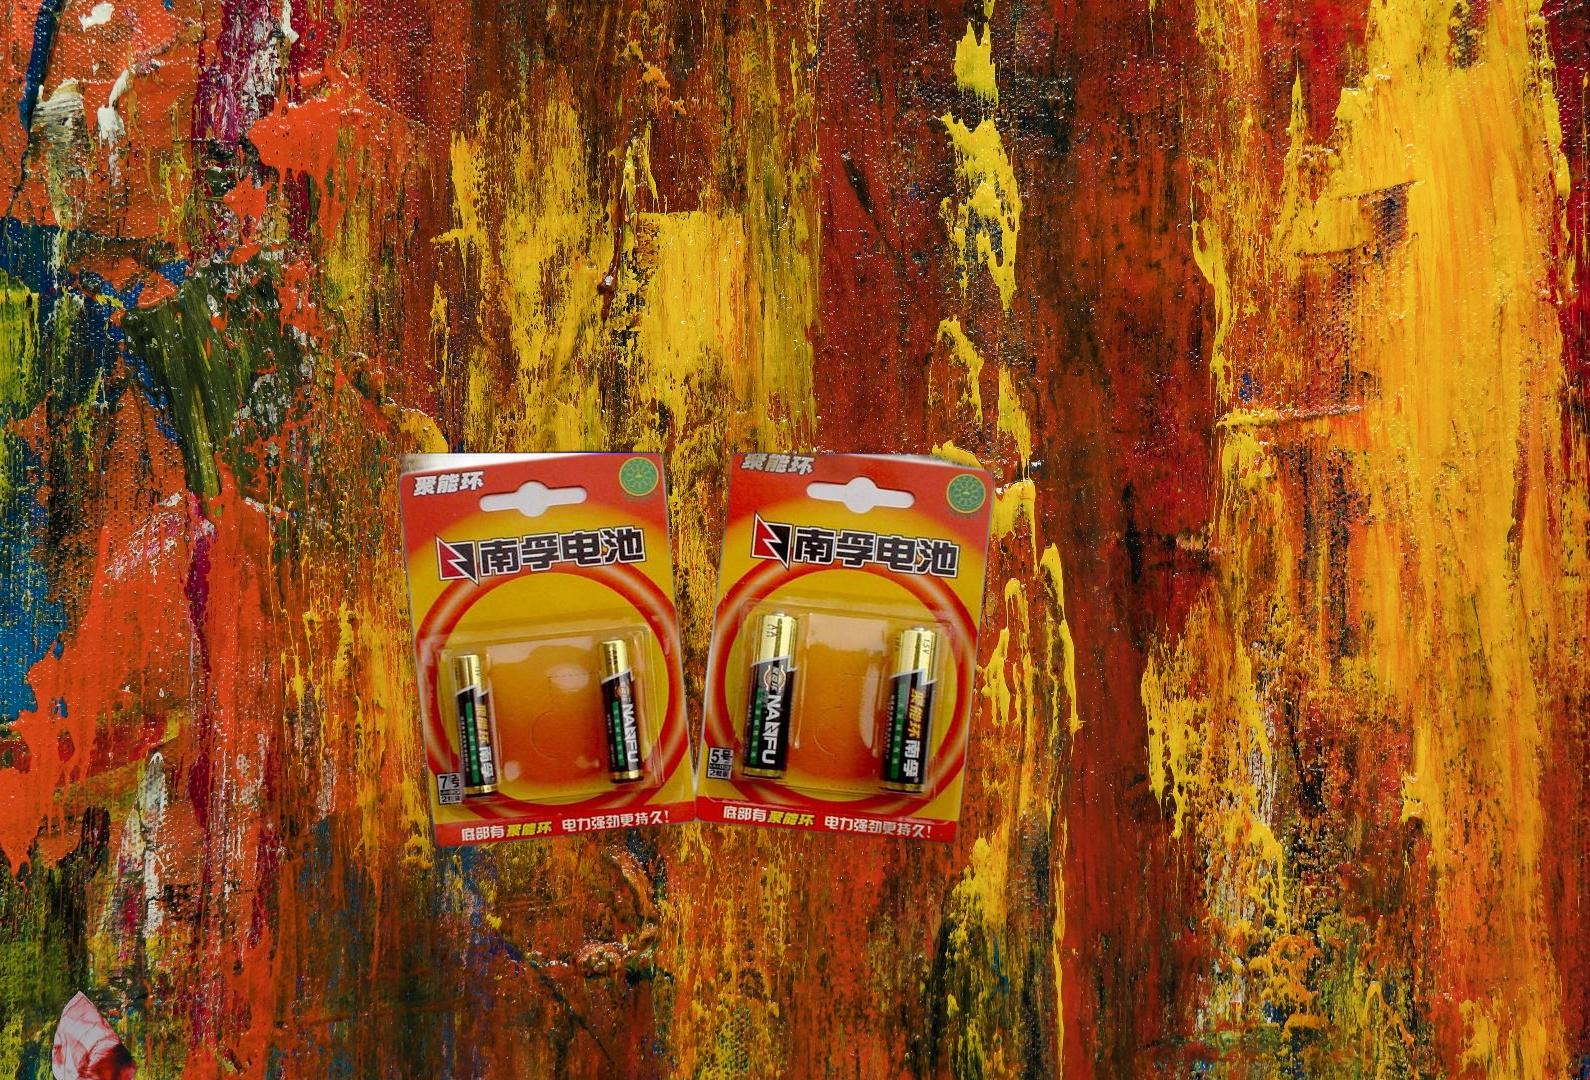battery: (397, 439, 995, 853)
plastic-bag: (51, 987, 141, 1080)
